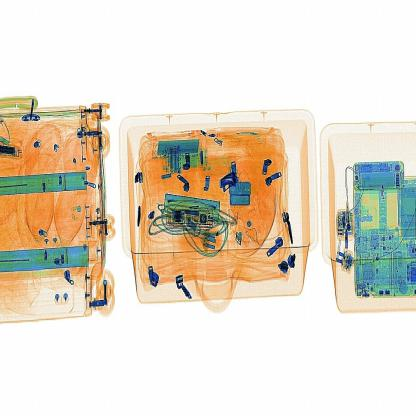knife: (222, 170, 243, 193)
